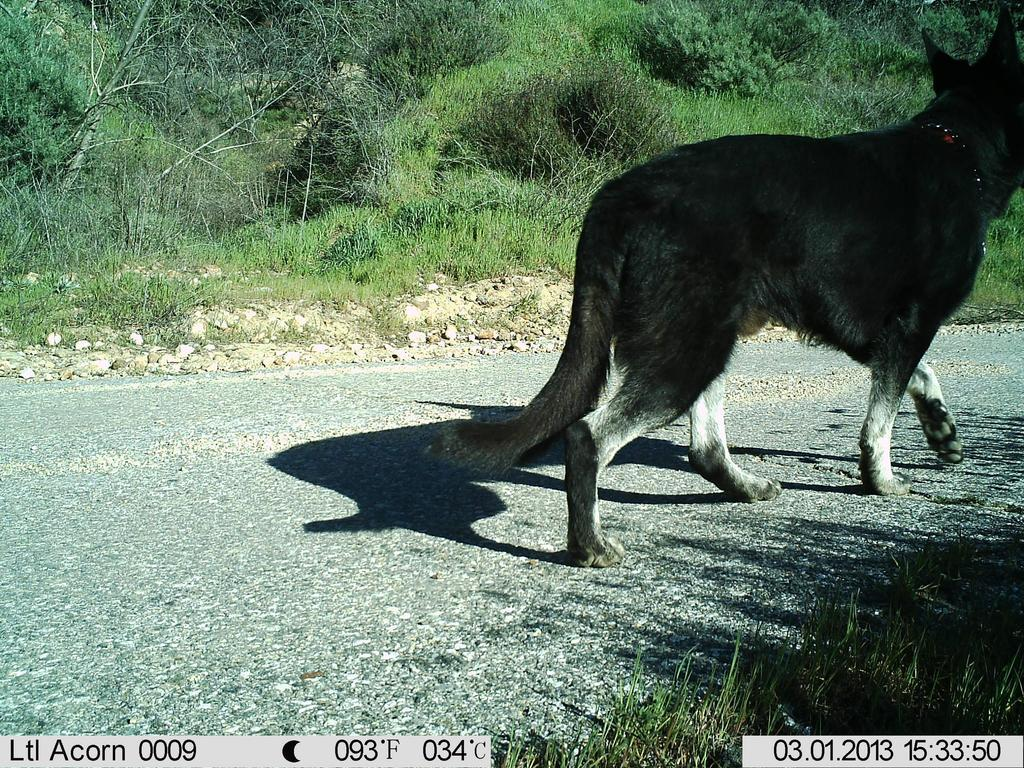dog: (419, 4, 1021, 578)
